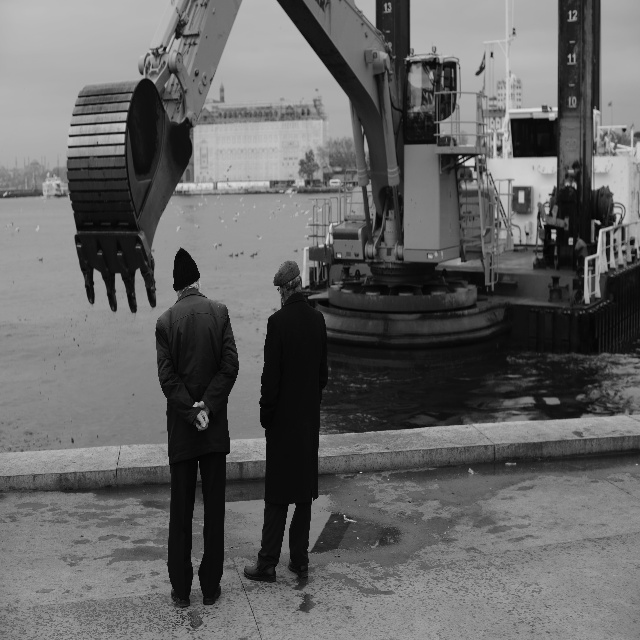Sin_guantes: (193, 397, 209, 416), (196, 410, 209, 432)
